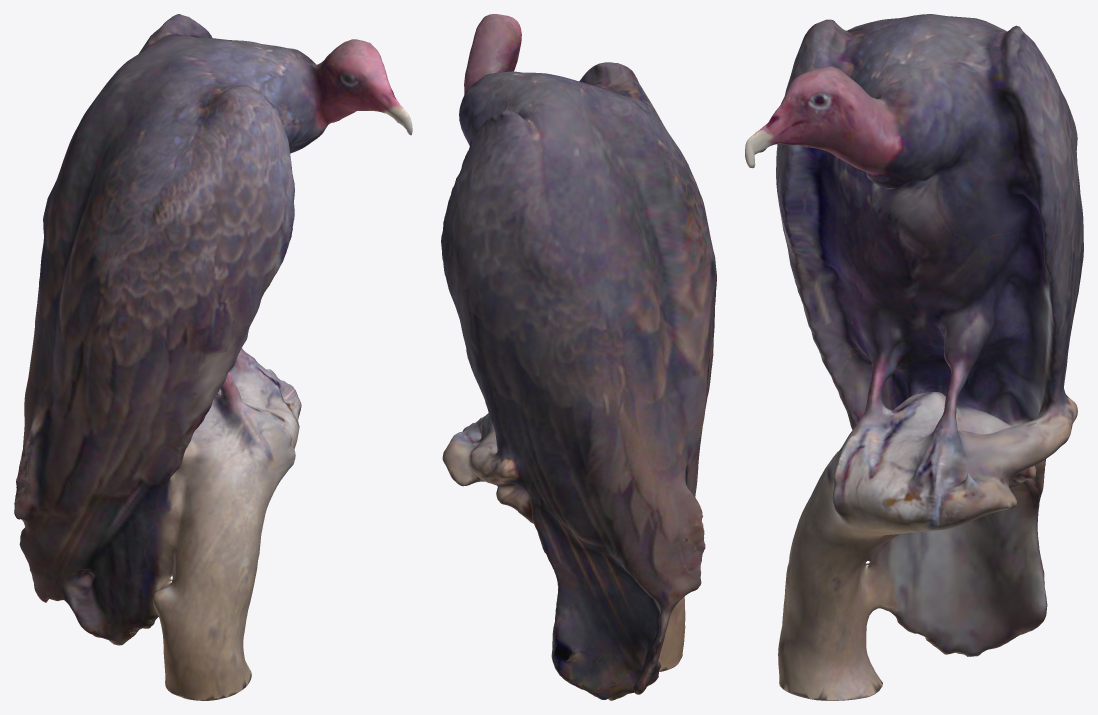
Rendered from v2_zopilote_cabeza_roja.glb.
The picture shows the model from 3 angles, left to right: view 1: azimuth 30°, elevation 25°; view 2: azimuth 150°, elevation 25°; view 3: azimuth 270°, elevation 25°; orthographic projection. The views are drawn at different scales.
Visible parts, largest first — view 1: material_0-material; view 2: material_0-material; view 3: material_0-material.
Boxes of the visible parts, bbox=[...] form: material_0-material: bbox=[14, 14, 412, 700]; material_0-material: bbox=[441, 14, 716, 700]; material_0-material: bbox=[745, 14, 1083, 700].
Size of the model in its own units: 0.2677 by 0.5222 by 0.2285.
Materials: 1 (1 with a texture image).
